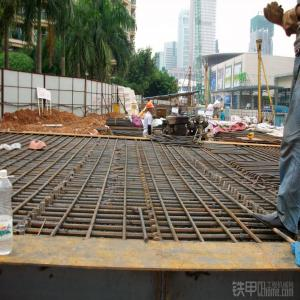red: (148, 103, 155, 113)
yellow: (221, 108, 224, 113)
